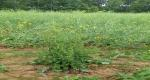zhavel: (22, 37, 116, 75)
